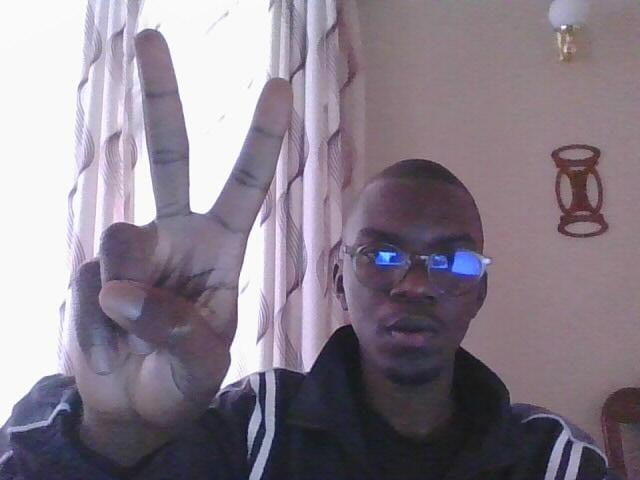scissors: (44, 19, 301, 454), (54, 24, 296, 441)
